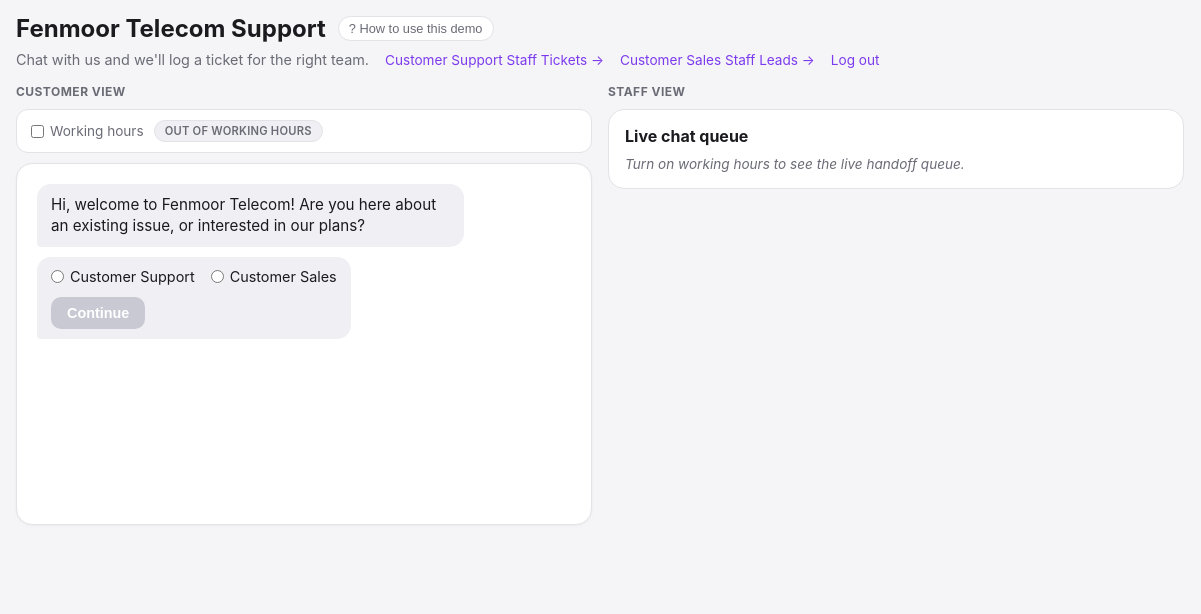
Test: App › picking Customer Sales creates a sales conversation and shows the sales welcome message
The width and height of the screenshot is (1201, 614).
What coordinates should you click on to do the following:
click the radio button labelled "Customer Sales"
I would click on:
 (217, 277)
Its box is [211,270,224,283].
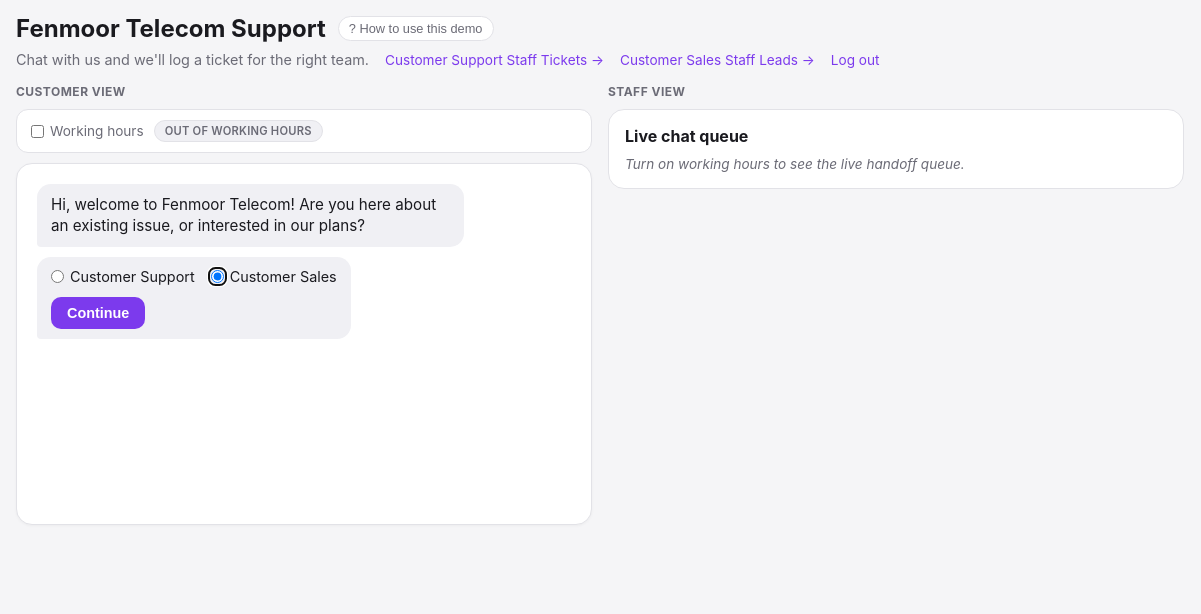
What coordinates should you click on to do the following:
click the button "Continue"
I would click on:
 (98, 313)
Its box is [51,297,145,329].
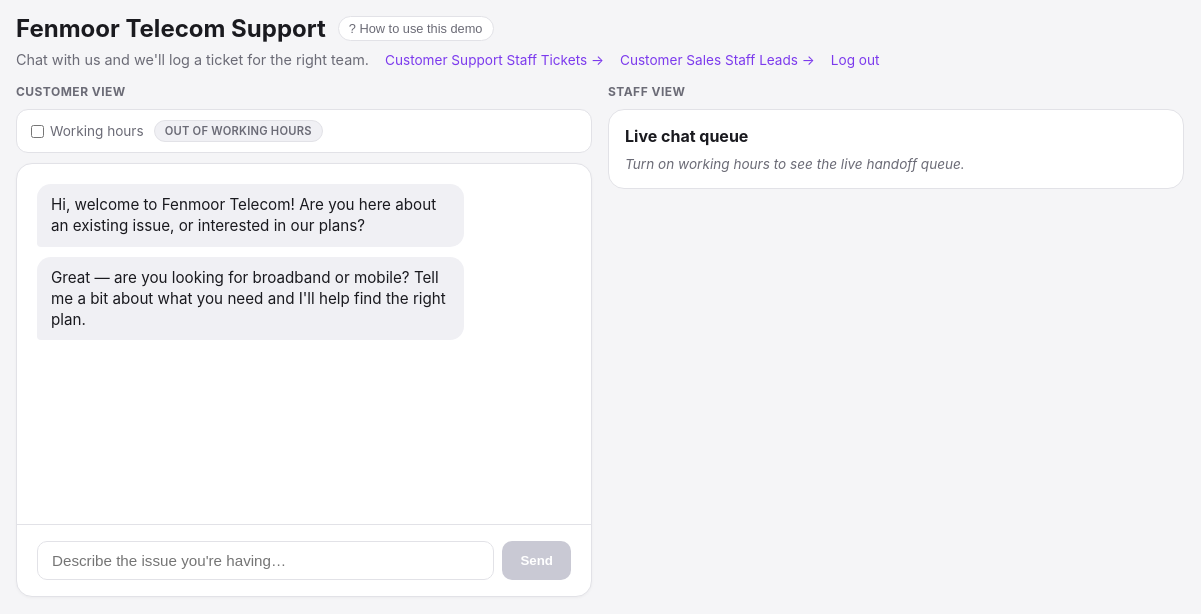
Expected: the text "are you looking for broadband or mobile" is shown, [51,268,450,329]
